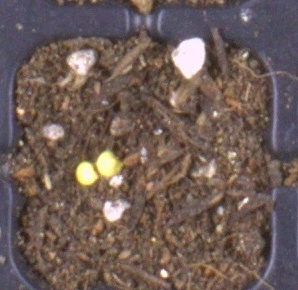chilli seed: (96, 149, 122, 177), (75, 160, 98, 184)
